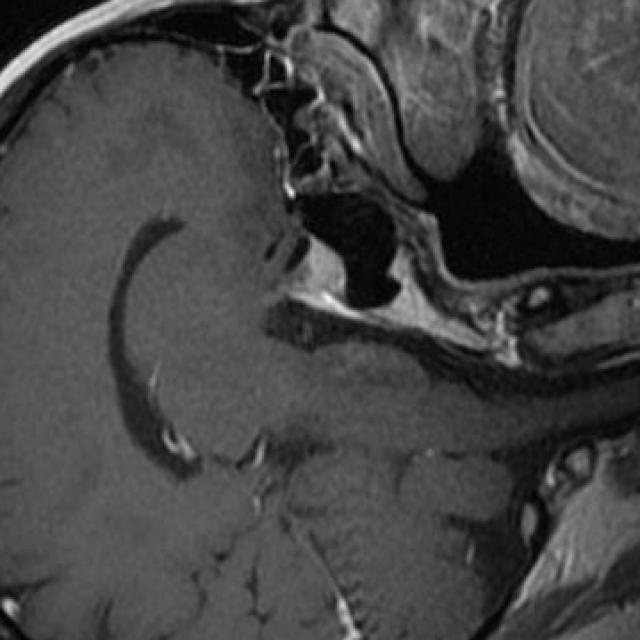pituitary: (287, 242, 344, 299)
